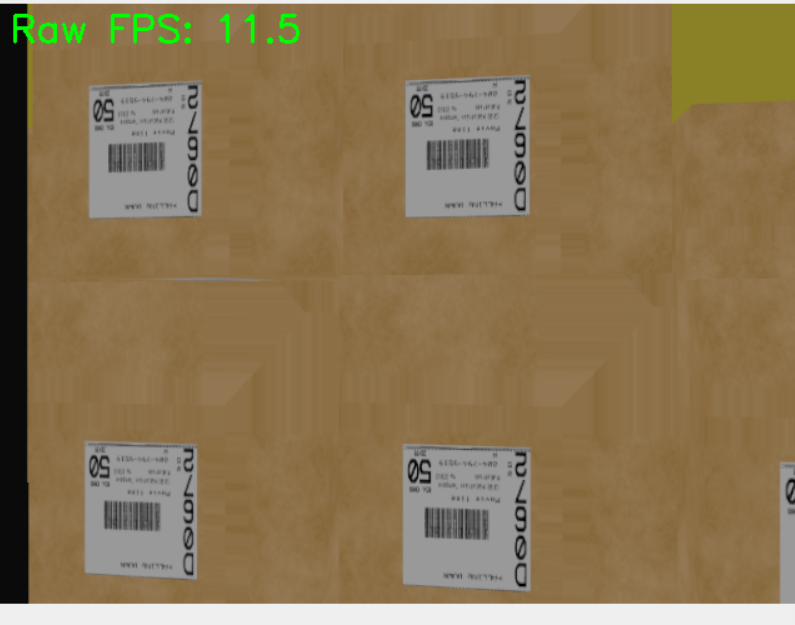barcode: (402, 443, 533, 593), (403, 73, 532, 218), (88, 79, 204, 219), (83, 440, 197, 581)
